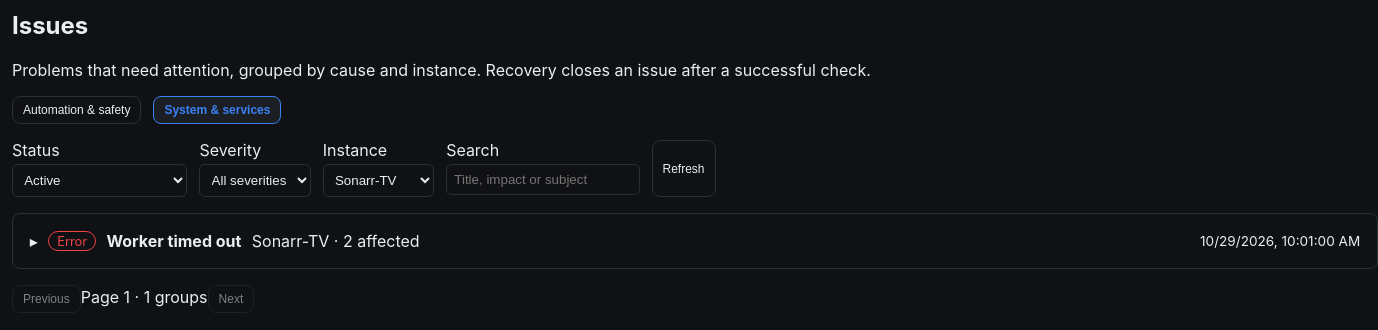
Test case: opens scoped system issues and supports arrow-key tabs
The width and height of the screenshot is (1378, 330).
Expected: the text "Worker timed out" is shown, [106,231,241,251]
Expected: the dropdown labelled "Instance" shows "Sonarr-TV", [323,164,434,197]
Click the tab "System & services" at (217, 110), box [153,96,282,124]
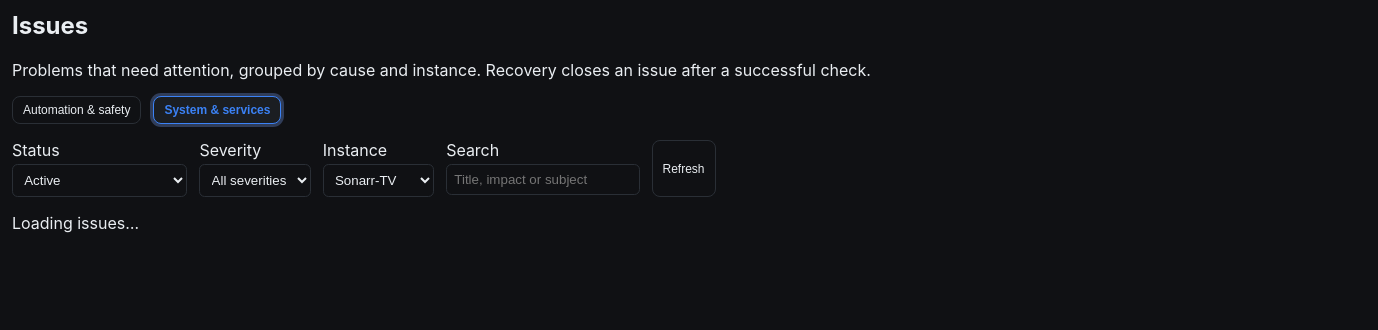
Press Arrowleft
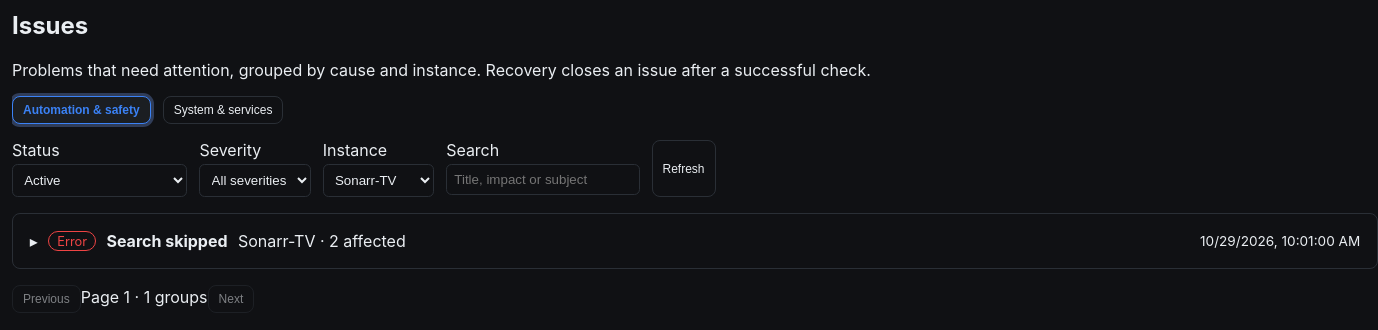
Expected: the dropdown labelled "Instance" shows "Sonarr-TV", [323,164,434,197]
Now the text "Search skipped" is shown, box [106,231,228,251]
